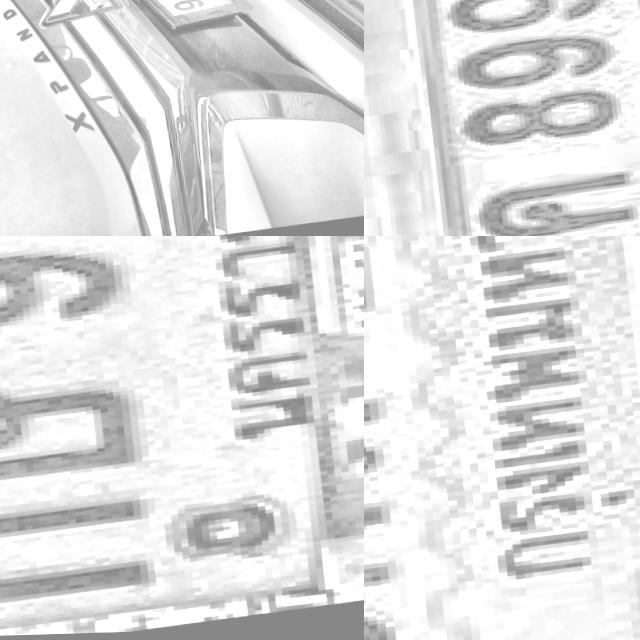license-plate: (0, 236, 364, 640), (364, 236, 640, 640), (387, 0, 640, 236), (73, 0, 255, 39)
